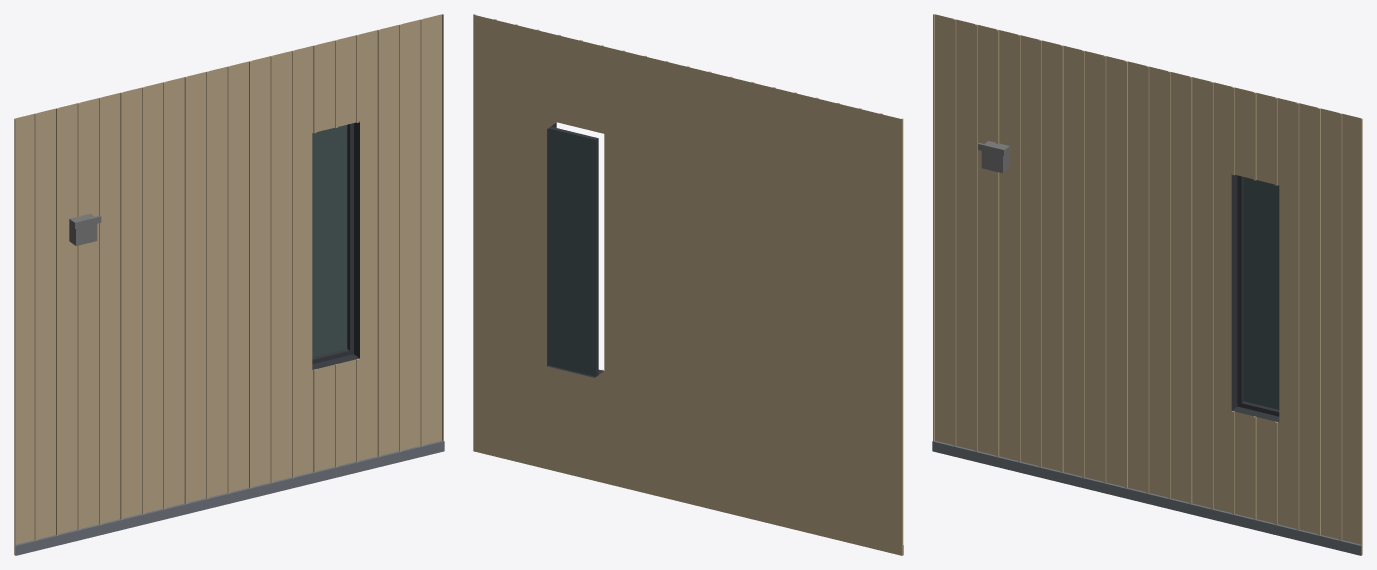
Rendered from top-w2_close.fbx.
The picture shows the model from 3 angles, left to right: view 1: azimuth 30°, elevation 25°; view 2: azimuth 150°, elevation 25°; view 3: azimuth 330°, elevation 25°; orthographic projection.
Visible parts, largest first — view 1: a2000/800/top-w2_close; view 2: a2000/800/top-w2_close; view 3: a2000/800/top-w2_close.
Boxes of the visible parts, x1,y1,x2,y2 form: a2000/800/top-w2_close: [14, 14, 444, 555]; a2000/800/top-w2_close: [473, 14, 903, 555]; a2000/800/top-w2_close: [932, 14, 1362, 555].
Size of the model in its own units: 3.6 by 3.5 by 0.26.
